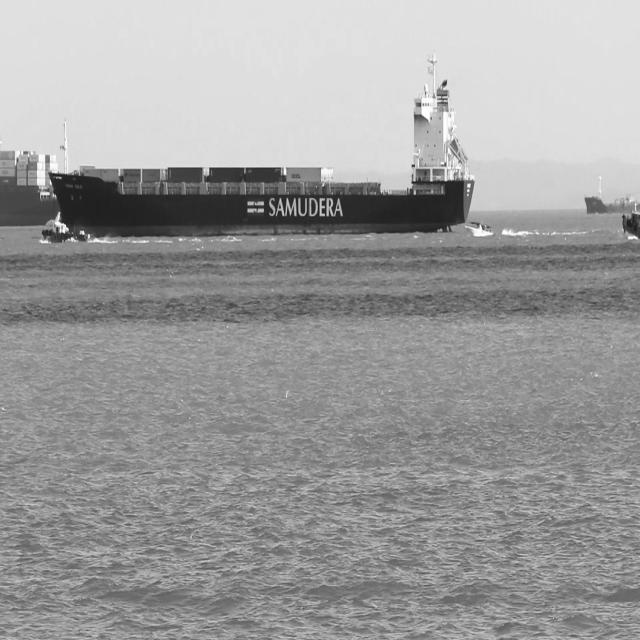ship: (49, 49, 476, 239), (0, 148, 59, 228), (584, 177, 639, 216), (42, 211, 94, 244), (464, 221, 494, 238), (622, 212, 639, 241)
